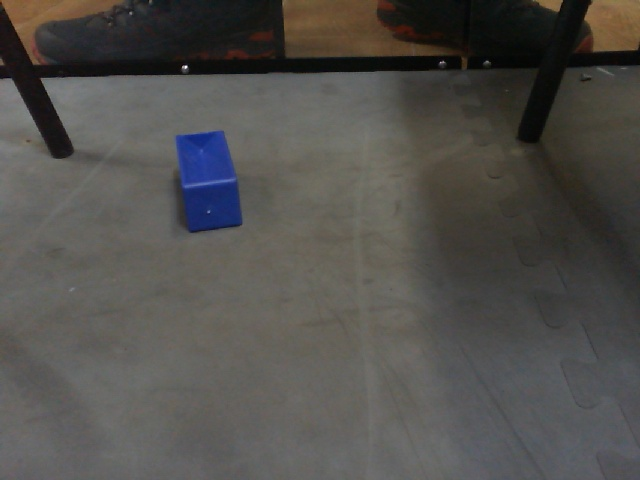BlueSample: (172, 128, 245, 233)
